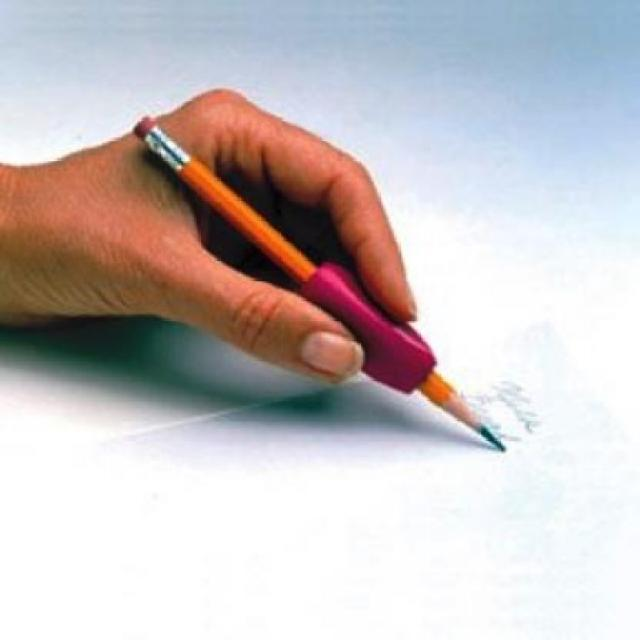Pencil: (424, 375, 513, 459)
